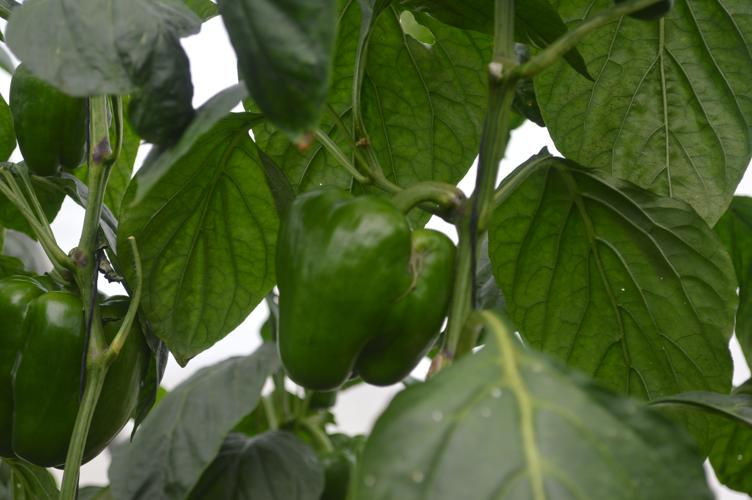BellPepper: (272, 185, 452, 381), (3, 277, 142, 461), (9, 68, 88, 178)
